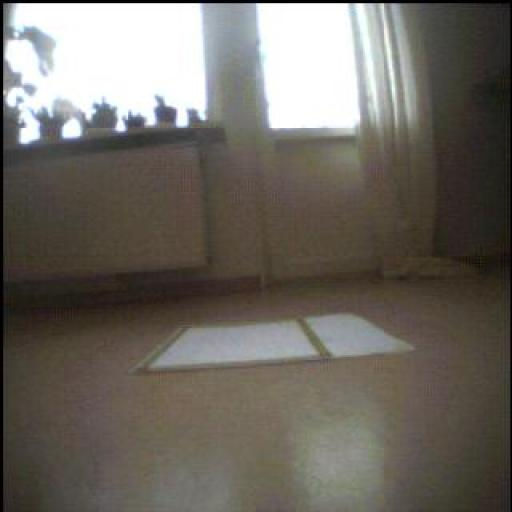Pad: (135, 315, 414, 372)
